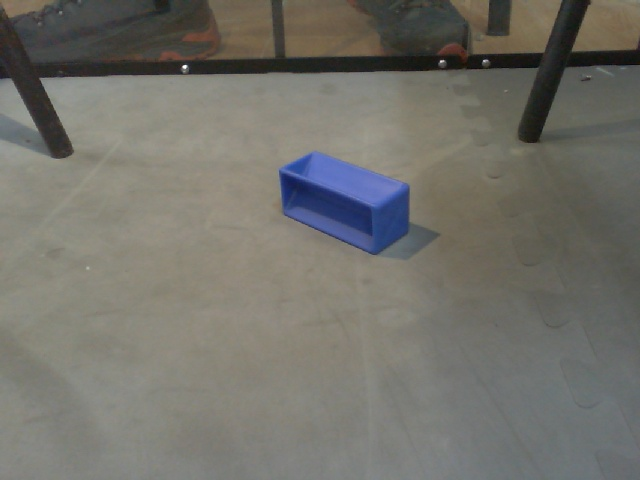BlueSample: (277, 149, 414, 257)
